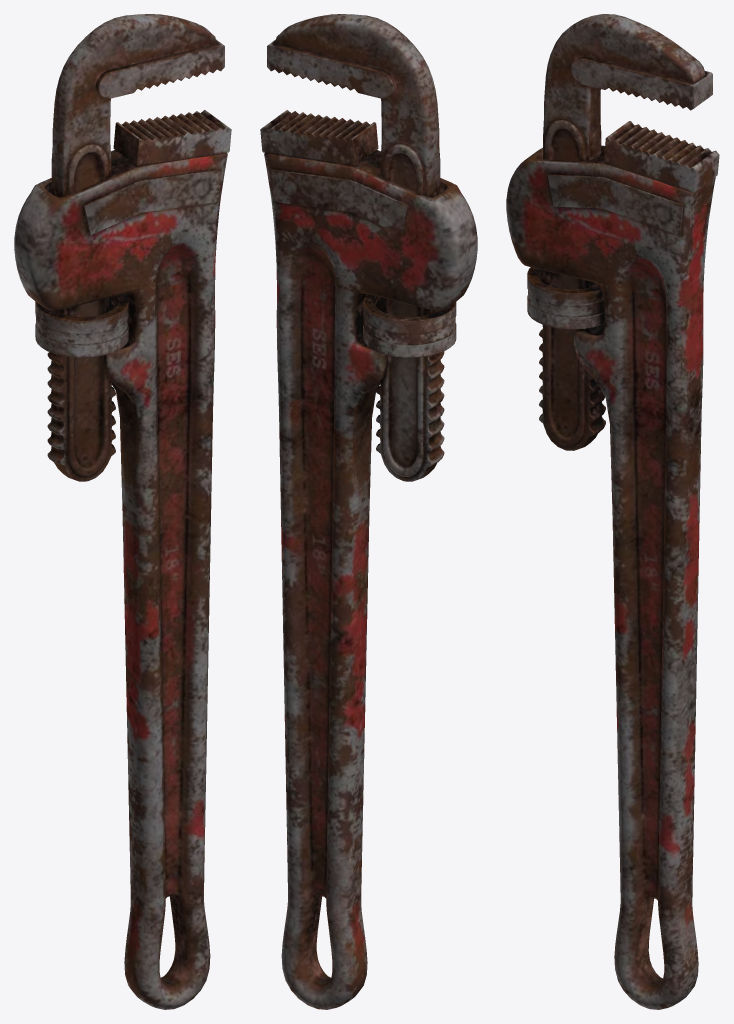
File: pipe_wrench.glb
The picture shows the model from 3 angles, left to right: view 1: azimuth 30°, elevation 25°; view 2: azimuth 150°, elevation 25°; view 3: azimuth 330°, elevation 25°; orthographic projection.
Parts seen in each view (by area): view 1: pipe_wrench; view 2: pipe_wrench; view 3: pipe_wrench.
Part boxes in pixels (<box>): pipe_wrench: <box>14,14,231,1009</box>; pipe_wrench: <box>260,14,477,1009</box>; pipe_wrench: <box>506,14,719,1009</box>.
Bounding box in the file's own units: 0.084 × 0.4047 × 0.0343.
1 material, 1 textured.
